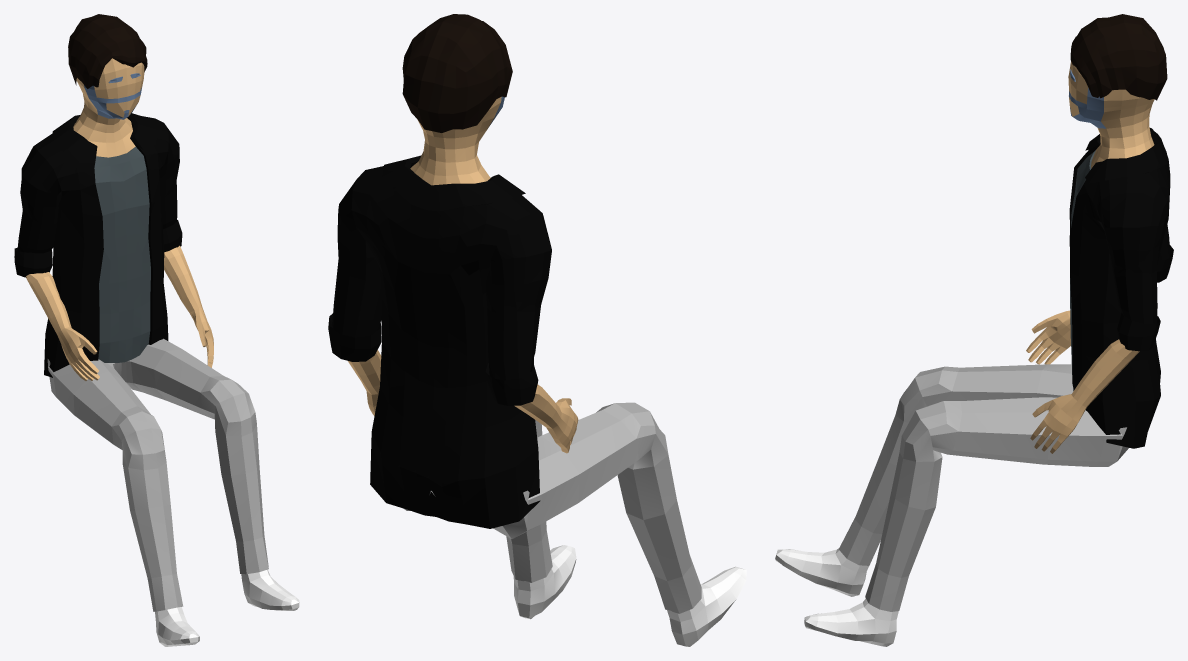
The model's file is hombre.glb.
The picture shows the model from 3 angles, left to right: view 1: azimuth 30°, elevation 25°; view 2: azimuth 150°, elevation 25°; view 3: azimuth 270°, elevation 25°; orthographic projection. The views are drawn at different scales.
Visible parts, largest first — view 1: Low_poly_Man_Casual_Clothes_8:ManCasual2_ManCasual2Material_; view 2: Low_poly_Man_Casual_Clothes_8:ManCasual2_ManCasual2Material_; view 3: Low_poly_Man_Casual_Clothes_8:ManCasual2_ManCasual2Material_.
Part boxes in pixels (x1,y1,x2,y2): Low_poly_Man_Casual_Clothes_8:ManCasual2_ManCasual2Material_: (14,14,299,646); Low_poly_Man_Casual_Clothes_8:ManCasual2_ManCasual2Material_: (328,14,746,646); Low_poly_Man_Casual_Clothes_8:ManCasual2_ManCasual2Material_: (775,14,1173,646).
Size of the model in its own units: 0.4317 by 1.39 by 0.8276.
Materials: 1 (1 with a texture image).
